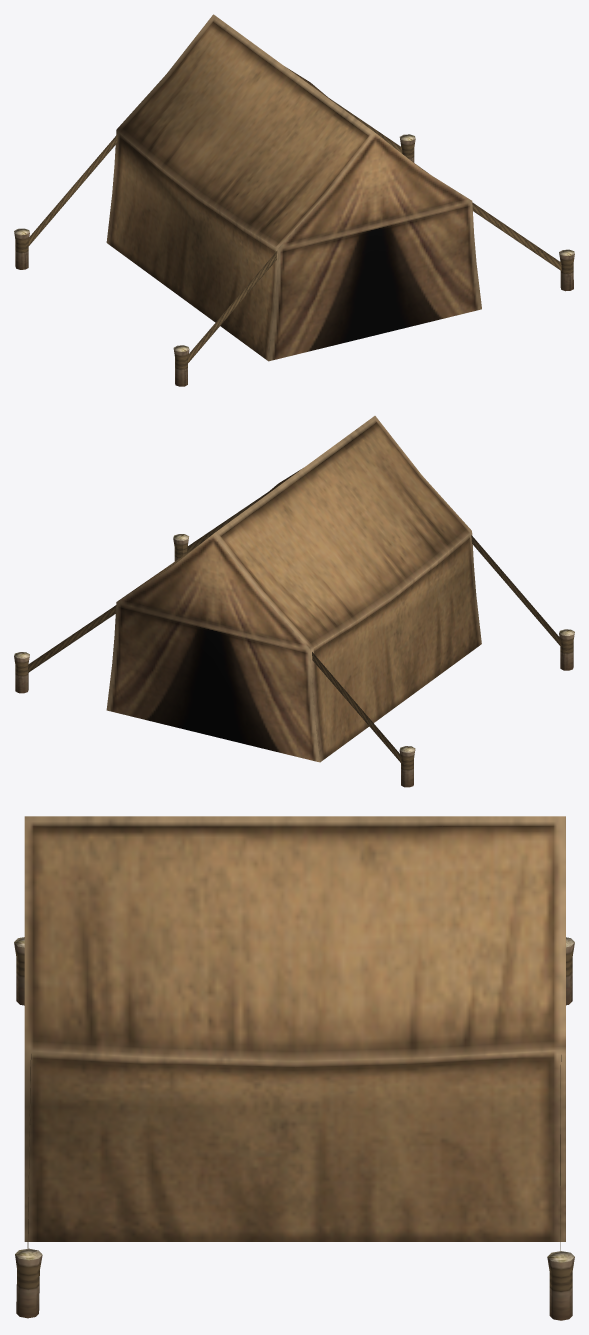
The model's file is tent_01.fbx.
3 views of the same model, one above another, from view 1: azimuth 30°, elevation 25°; view 2: azimuth 150°, elevation 25°; view 3: azimuth 270°, elevation 25° (orthographic). The views are drawn at different scales.
Visible parts, largest first — view 1: tent_01; view 2: tent_01; view 3: tent_01.
Part boxes in pixels (bbox=[...]): tent_01: bbox=[14, 14, 574, 386]; tent_01: bbox=[14, 416, 574, 787]; tent_01: bbox=[14, 816, 574, 1320].
Size of the model in its own units: 1958 by 958 by 1422.
